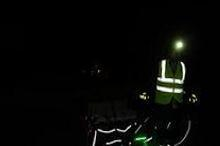Vest: (158, 57, 186, 104)
